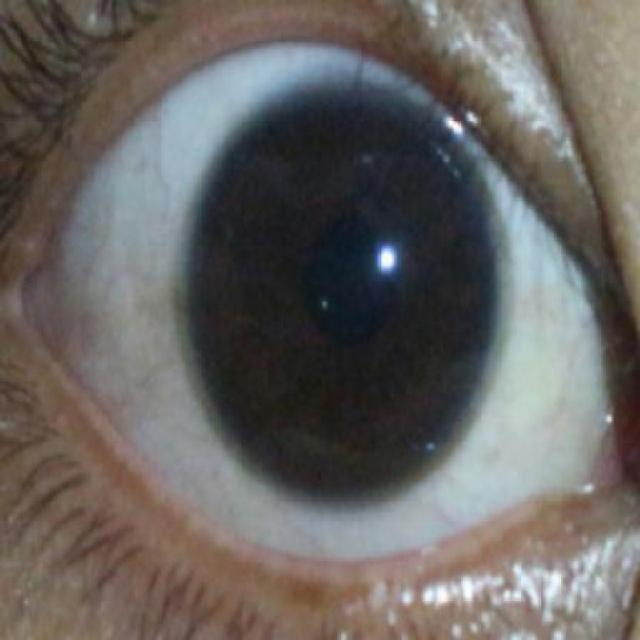Normal: (187, 77, 500, 502)
